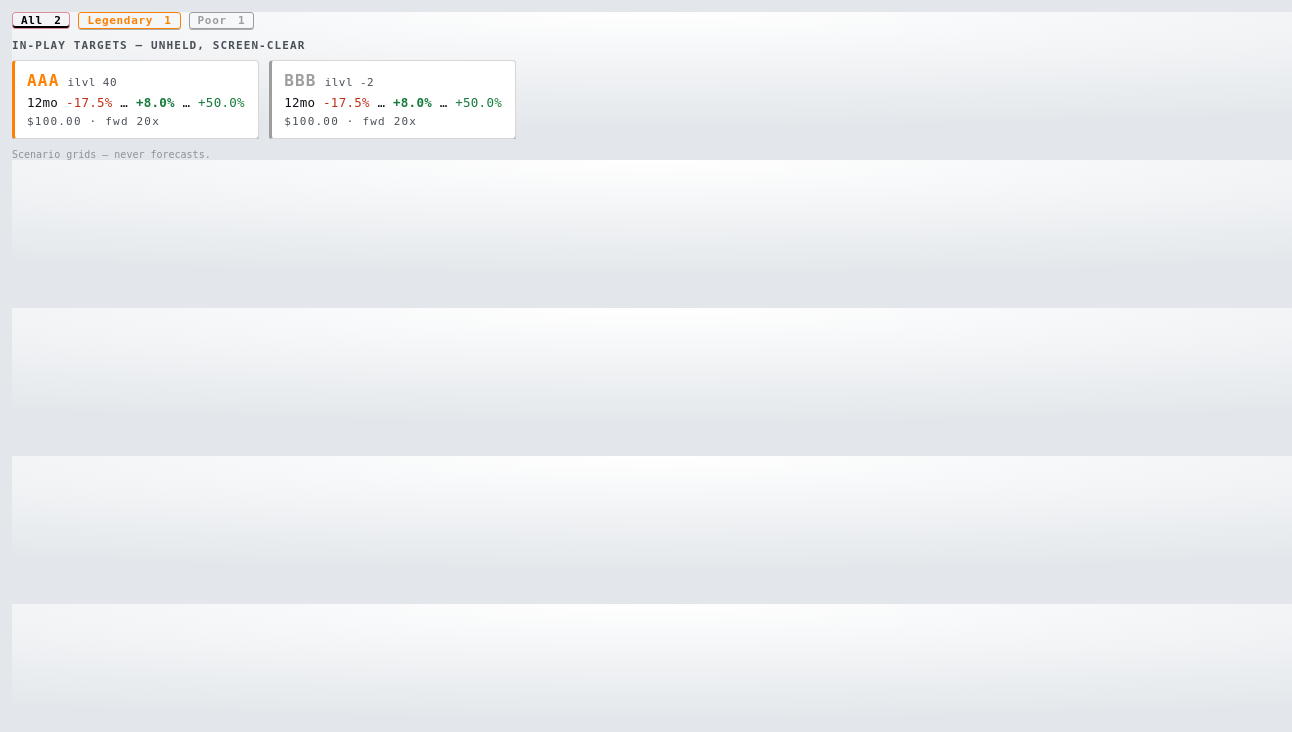
ProjectionTiles › restores the full set via the All chip after filtering
Click the button "legendary 1".
click(129, 20)  # box [78,12,180,29]
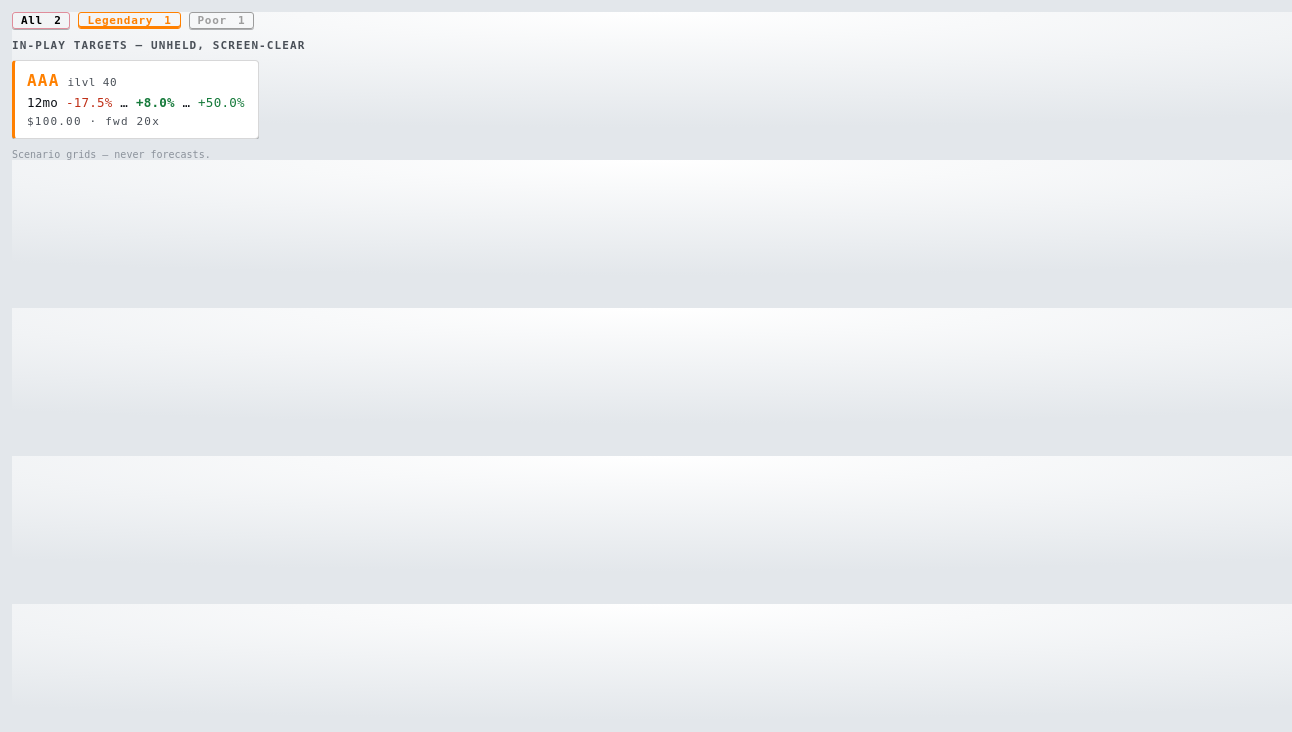
expect the button "BBB" is gone: met
Click the button "all 2".
click(41, 20)  # box [12,12,70,29]
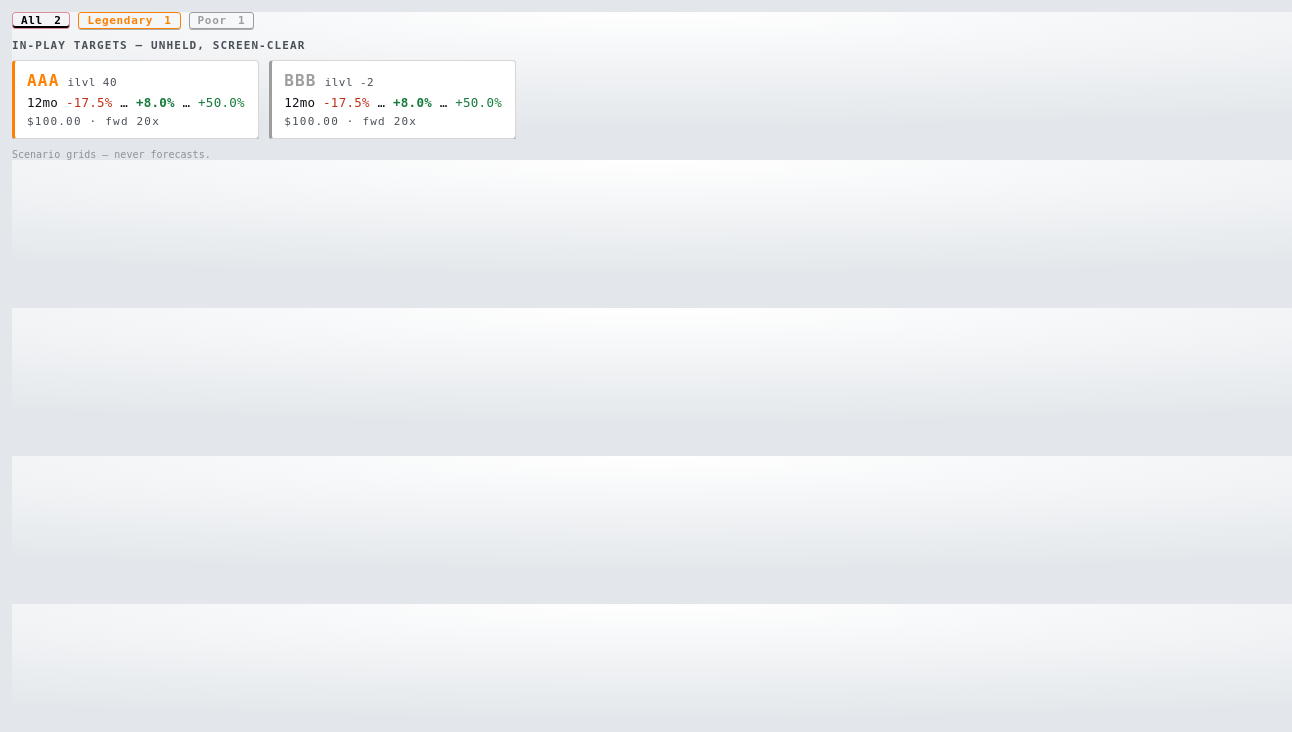
expect the text "AAA" is shown: met, box [27,71,60,90]
expect the text "BBB" is shown: met, box [284,71,317,90]
